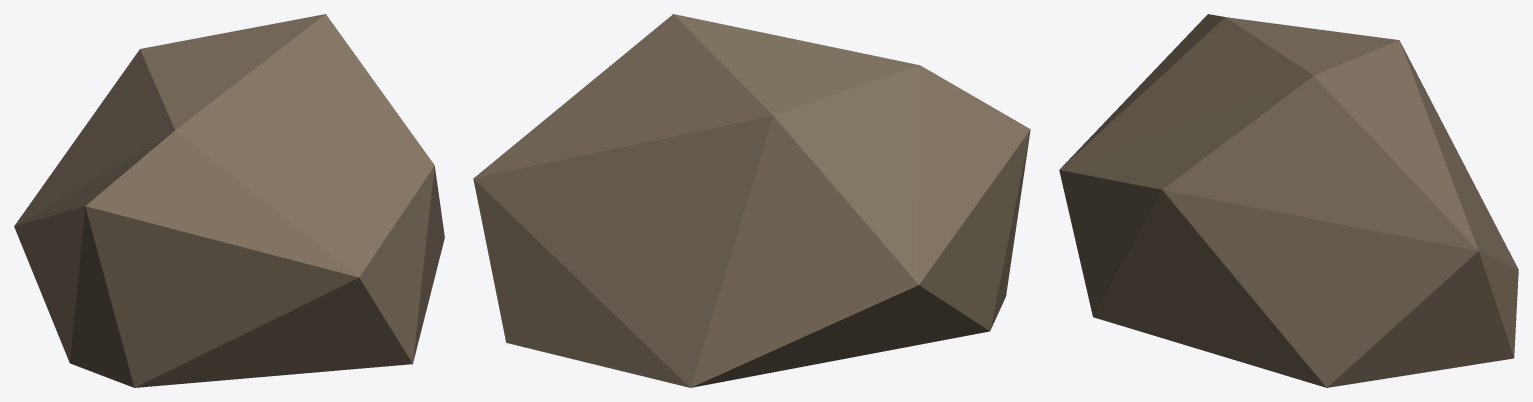
The model's file is Stone_3_brown_mat.fbx.
The picture shows the model from 3 angles, left to right: view 1: azimuth 30°, elevation 25°; view 2: azimuth 150°, elevation 25°; view 3: azimuth 270°, elevation 25°; orthographic projection. The views are drawn at different scales.
Visible parts, largest first — view 1: Stone_3_brown_mat; view 2: Stone_3_brown_mat; view 3: Stone_3_brown_mat.
Boxes of the visible parts, x1,y1,x2,y2 form: Stone_3_brown_mat: [14, 14, 444, 387]; Stone_3_brown_mat: [473, 14, 1030, 387]; Stone_3_brown_mat: [1059, 14, 1518, 387].
Bounding box in the file's own units: 23.08 × 13.74 × 22.42.
